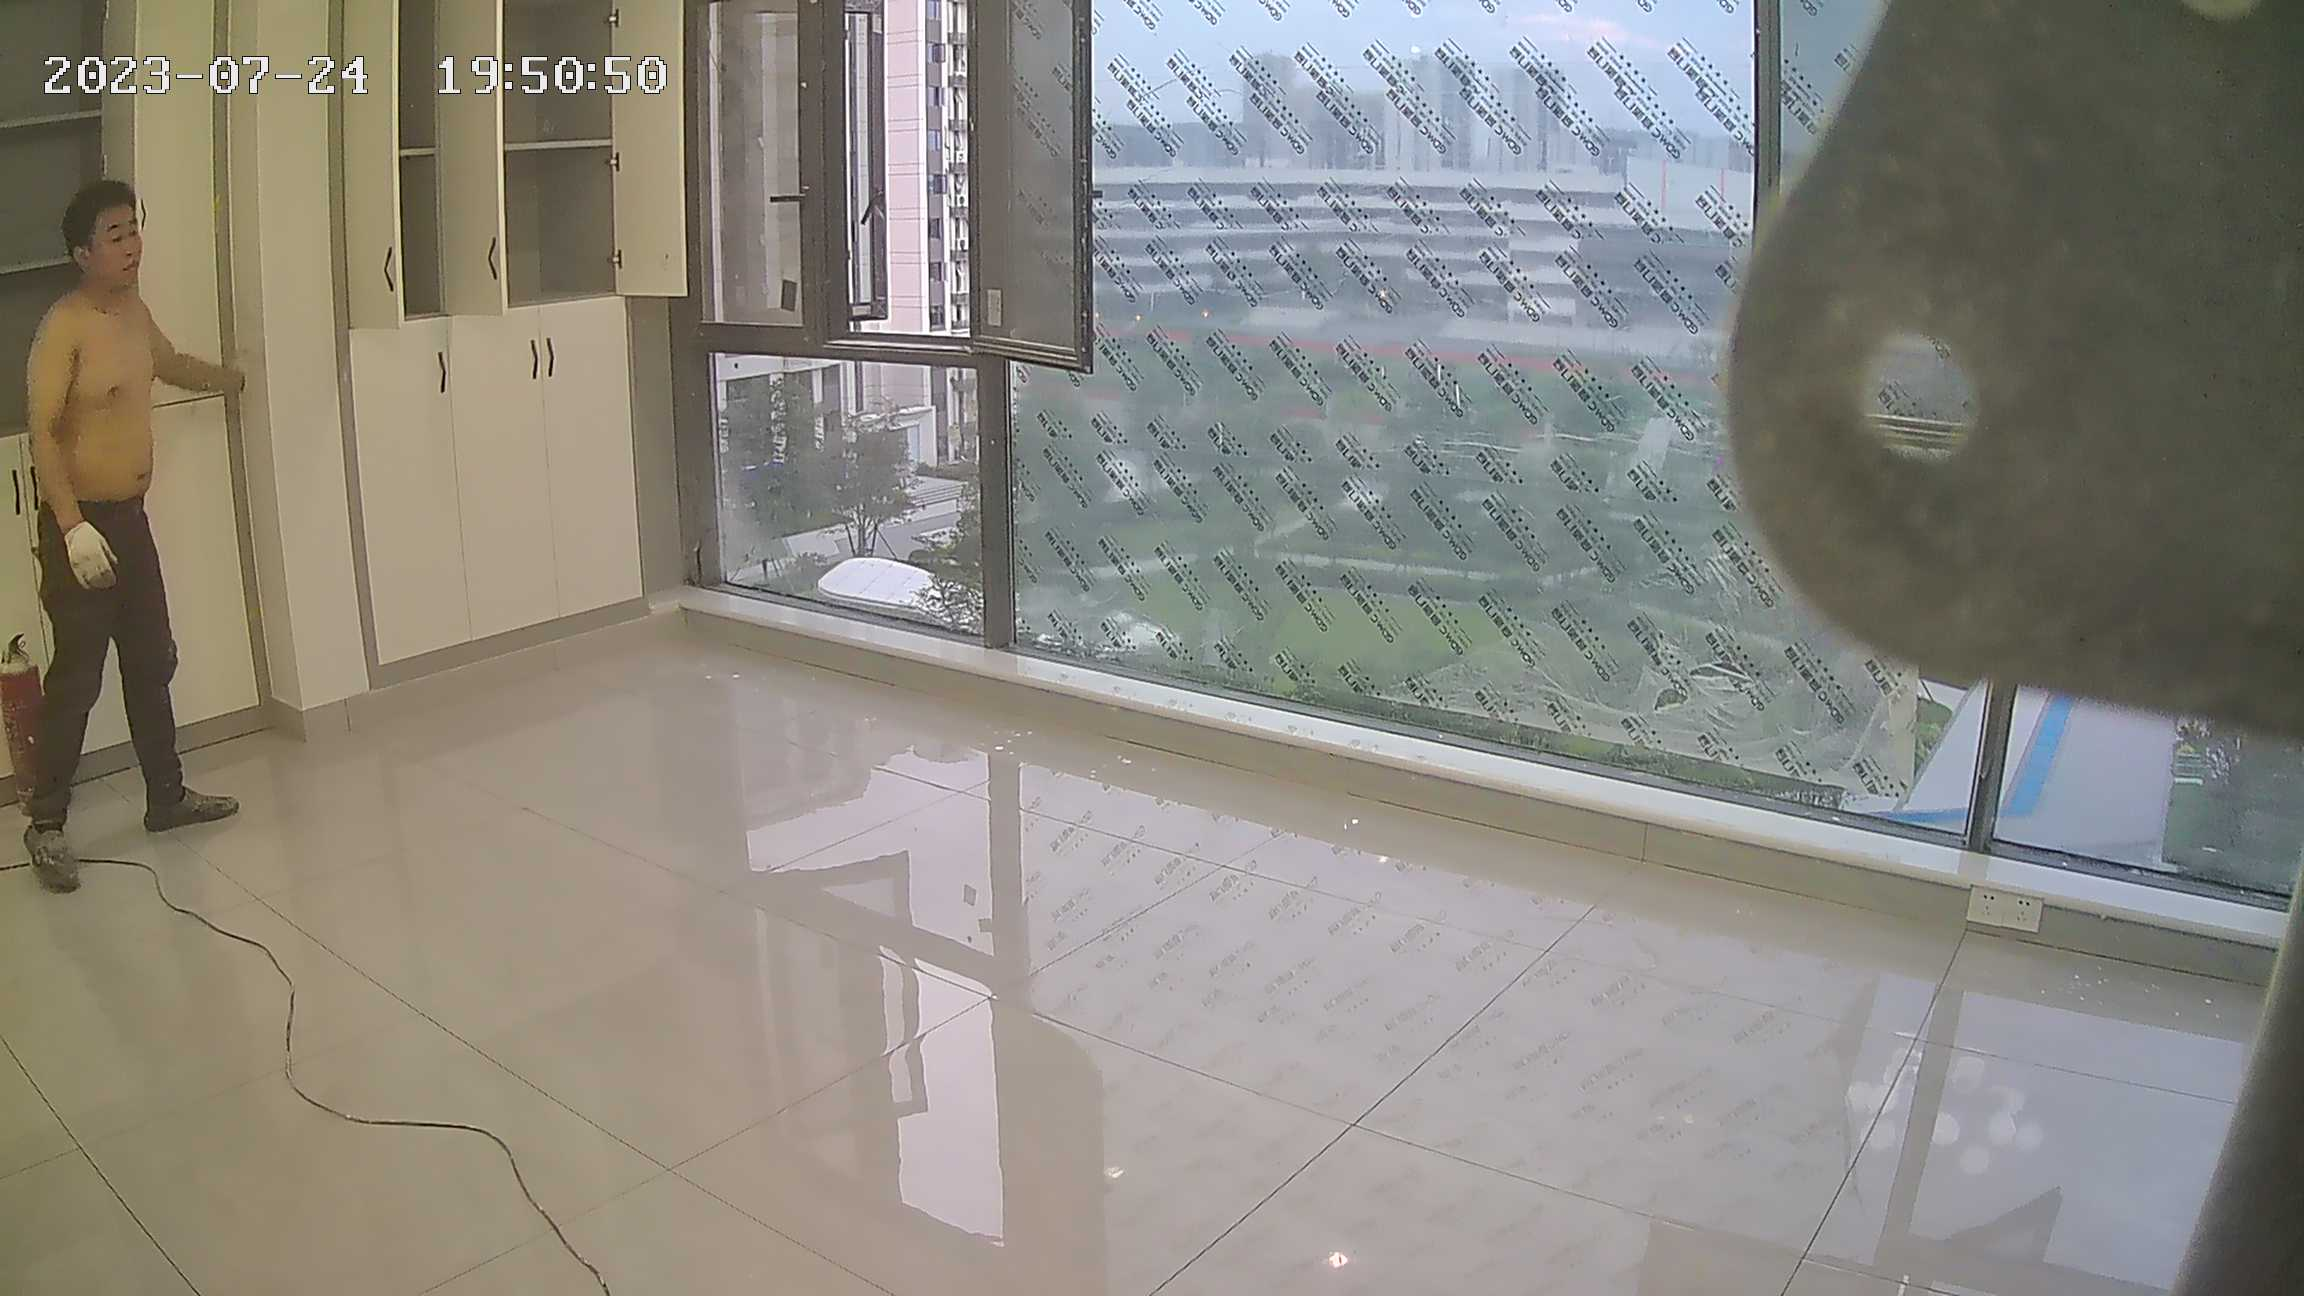people: (24, 179, 260, 890)
window: (678, 1, 2199, 850)
